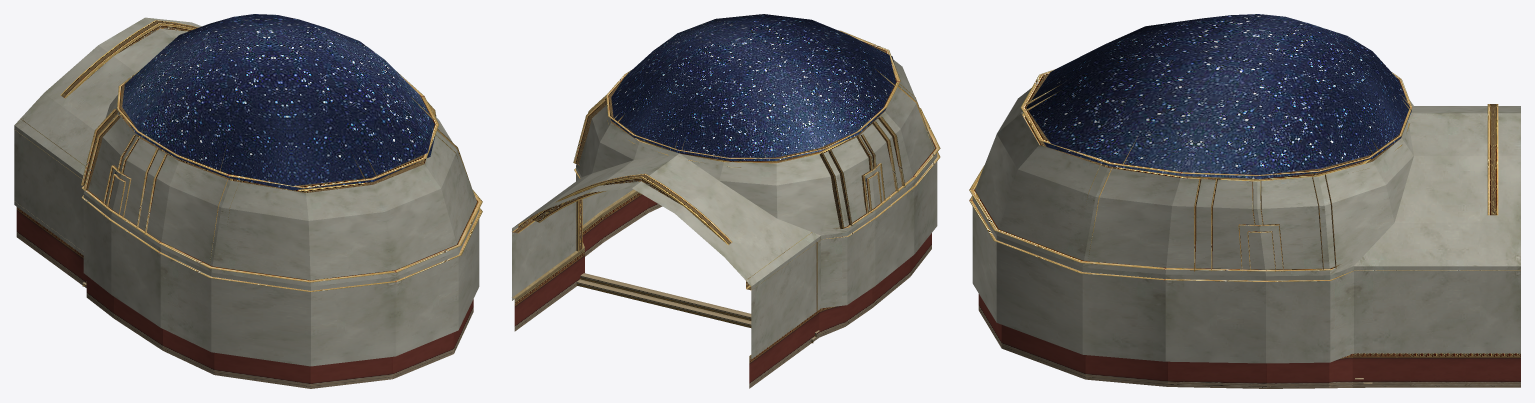
Rendered from GW_ZhuChen_qita_001.FBX.
The picture shows the model from 3 angles, left to right: view 1: azimuth 30°, elevation 25°; view 2: azimuth 150°, elevation 25°; view 3: azimuth 270°, elevation 25°; orthographic projection. The views are drawn at different scales.
Parts seen in each view (by area): view 1: GW_ZhuChen_qita_001; view 2: GW_ZhuChen_qita_001; view 3: GW_ZhuChen_qita_001.
Boxes of the visible parts, x1,y1,x2,y2 form: GW_ZhuChen_qita_001: (14, 14, 482, 388); GW_ZhuChen_qita_001: (512, 14, 940, 388); GW_ZhuChen_qita_001: (969, 14, 1520, 388).
Bounding box in the file's own units: 2337 × 1923 × 3347.
